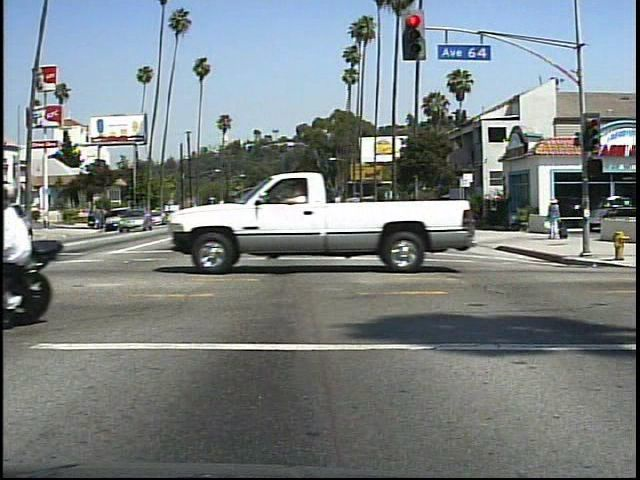person: (541, 194, 566, 243)
